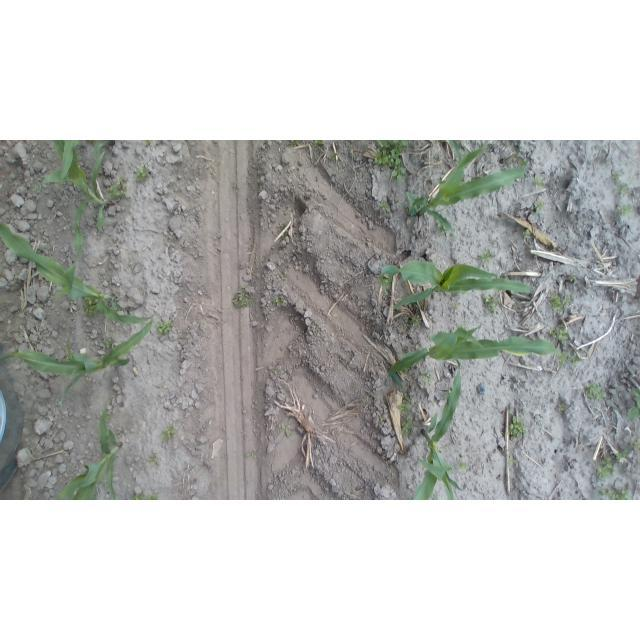Maize: (0, 218, 156, 323), (0, 319, 158, 407), (385, 321, 566, 392), (407, 141, 529, 239), (49, 142, 117, 303), (376, 257, 537, 314), (412, 361, 466, 500), (56, 404, 125, 501), (46, 142, 81, 183), (442, 141, 467, 168), (91, 141, 118, 159)
Weeds: (374, 140, 410, 182), (548, 291, 573, 313), (232, 285, 253, 310), (596, 486, 632, 500), (107, 177, 128, 201), (626, 385, 640, 419), (507, 415, 527, 438), (584, 382, 607, 402), (596, 458, 615, 479), (549, 325, 569, 343), (83, 298, 100, 319), (156, 320, 174, 339), (482, 294, 498, 315), (160, 423, 177, 442), (280, 418, 295, 438), (404, 314, 421, 331), (134, 165, 150, 183), (399, 393, 412, 415), (400, 416, 414, 436), (419, 369, 433, 387), (616, 205, 634, 219), (479, 249, 494, 265), (131, 492, 159, 500), (310, 319, 323, 335), (615, 182, 629, 196), (615, 450, 630, 463), (534, 199, 547, 214), (569, 351, 582, 365), (532, 174, 544, 189), (272, 296, 288, 307), (148, 454, 161, 467), (379, 201, 391, 213), (611, 169, 621, 183), (557, 349, 571, 359), (437, 221, 447, 235), (385, 273, 394, 288), (457, 460, 469, 471), (104, 338, 114, 351), (522, 228, 532, 240), (567, 274, 578, 284), (452, 301, 463, 311), (631, 438, 640, 450), (246, 450, 258, 459), (508, 456, 518, 466), (232, 181, 241, 192), (534, 417, 543, 427), (287, 140, 301, 146), (281, 273, 290, 282), (557, 404, 566, 413), (444, 389, 452, 399), (105, 413, 112, 424), (272, 368, 279, 379), (315, 141, 326, 148), (116, 429, 124, 438), (330, 152, 338, 161), (378, 414, 386, 423), (143, 140, 154, 146), (279, 223, 286, 232), (582, 348, 589, 356)
